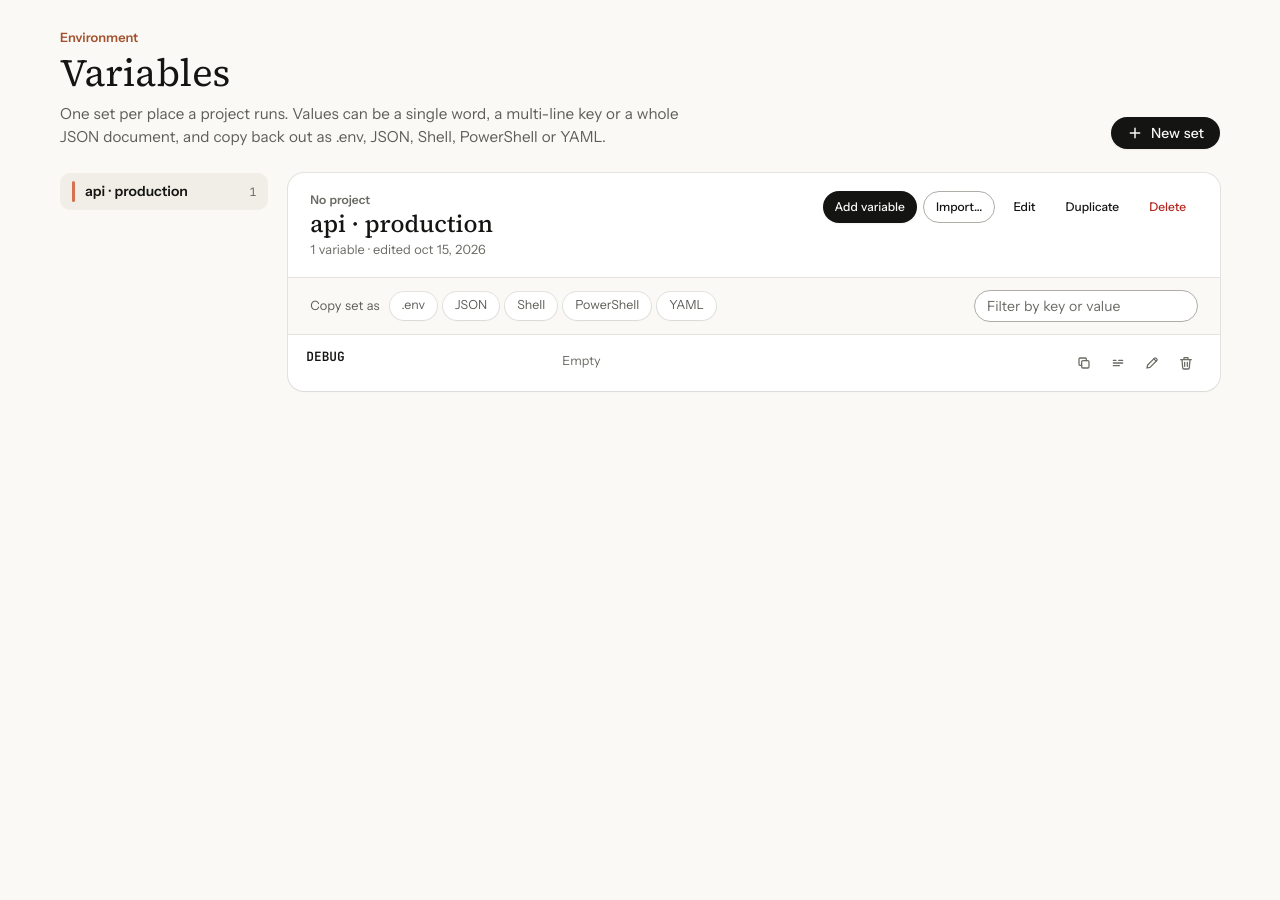
Test: EnvPage › says an empty value has nothing to copy instead of reporting a failure
The width and height of the screenshot is (1280, 900).
Expected: the text "Empty" is shown, [562,352,601,368]
What coordinates should you click on to do the following:
click the button named "Copy value of DEBUG"
I would click on:
 (1084, 362)
Its box is [1068,346,1100,378].
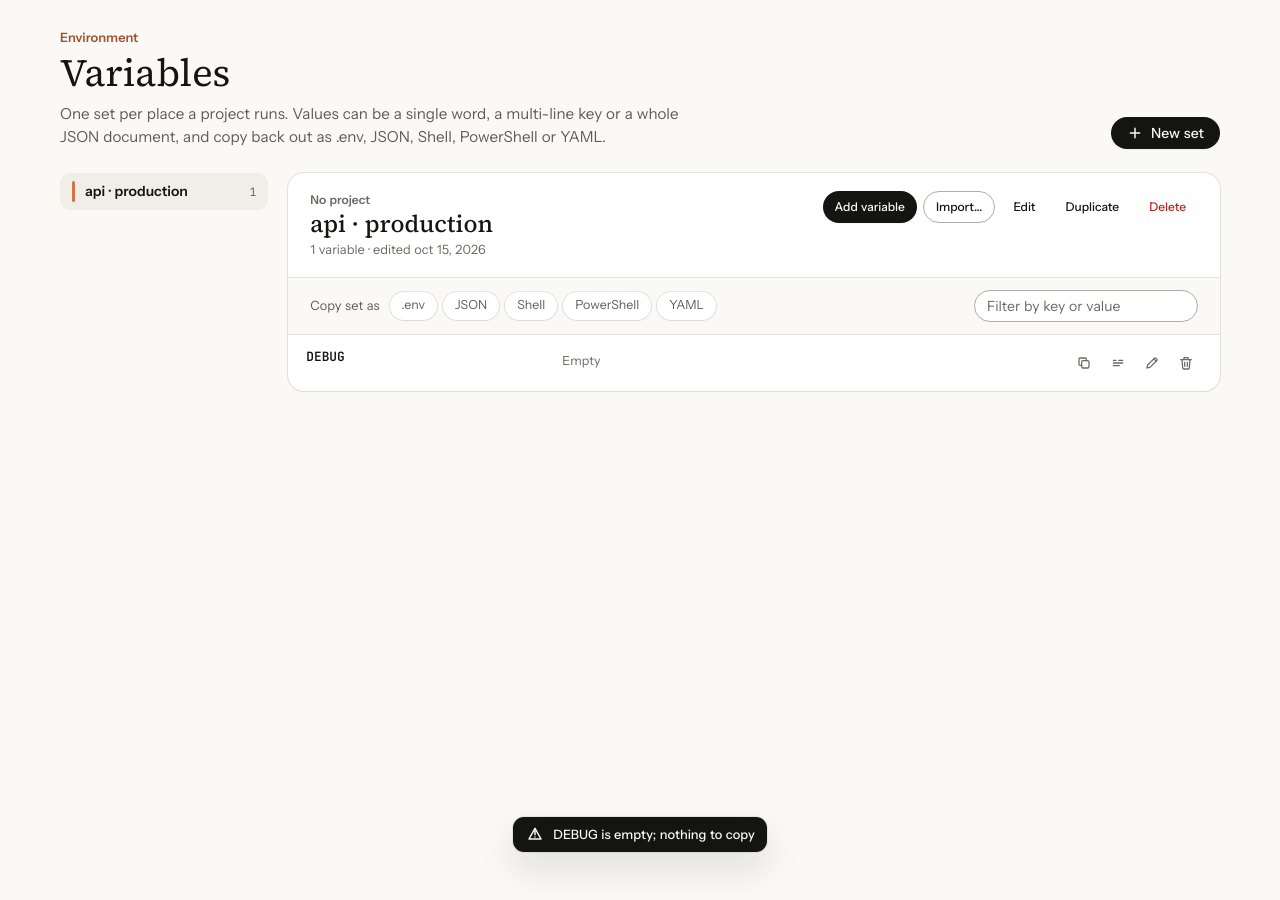
Result: the text "DEBUG is empty; nothing to copy" is shown at [553,825,755,844]
